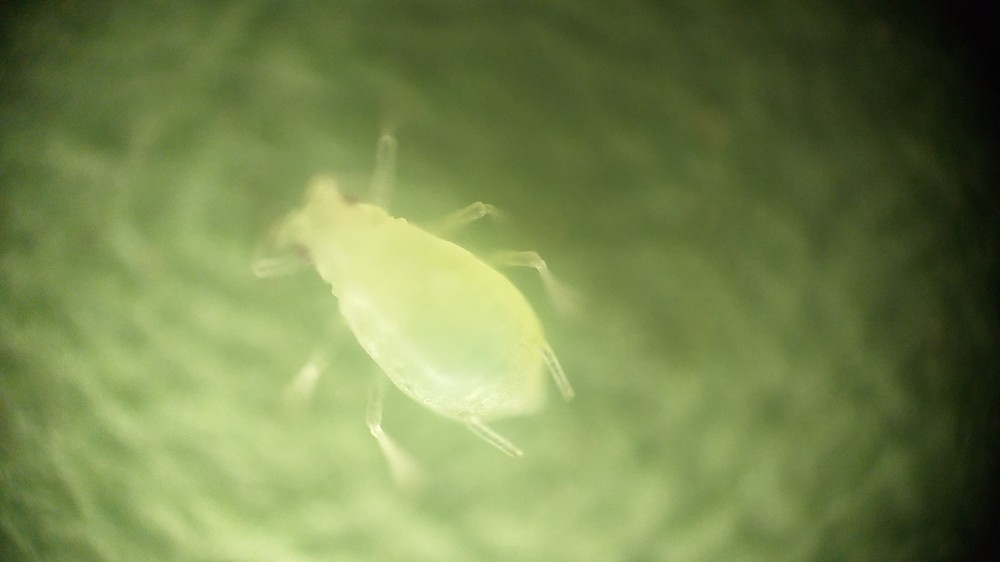Pulgon: (196, 115, 647, 526)
